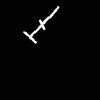double_crochet: (24, 7, 58, 42)
